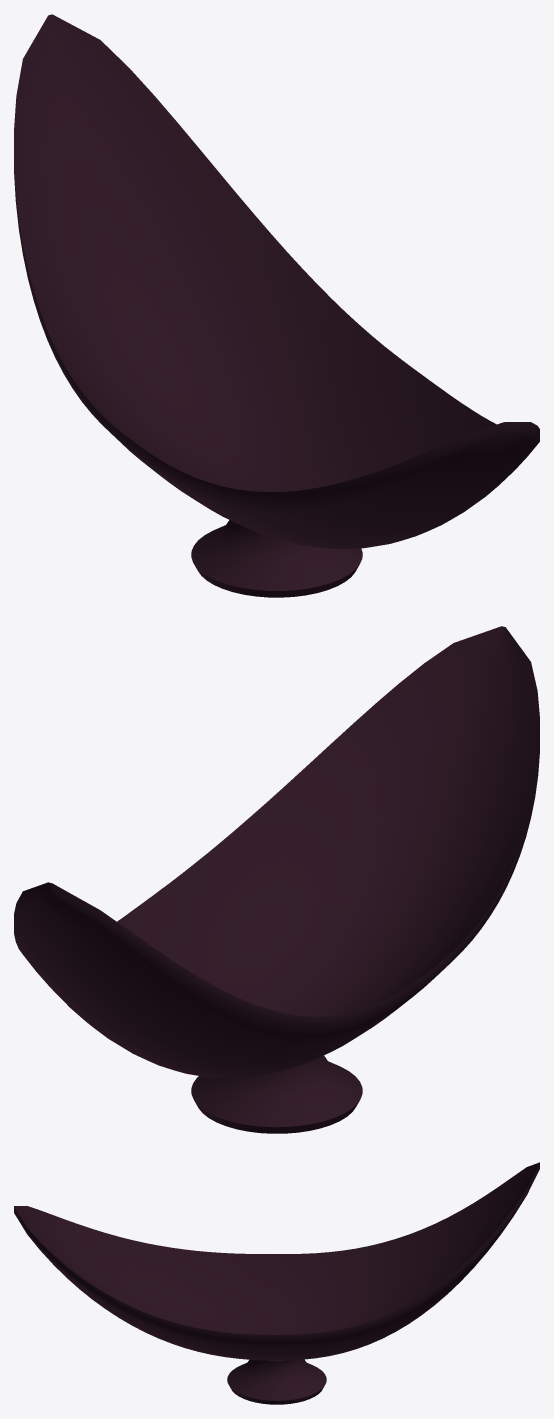
Rendered from recNipbeGY6ioNnac.glb.
3 renders of one model, top to bottom at view 1: azimuth 30°, elevation 25°; view 2: azimuth 150°, elevation 25°; view 3: azimuth 270°, elevation 25°, orthographic. The views are drawn at different scales.
Parts seen in each view (by area): view 1: Coupe_Buffet_Corps; view 2: Coupe_Buffet_Corps; view 3: Coupe_Buffet_Corps.
Part boxes in pixels (box(x1,y1,x2,y2)): Coupe_Buffet_Corps: box(14, 14, 539, 597); Coupe_Buffet_Corps: box(14, 626, 539, 1133); Coupe_Buffet_Corps: box(14, 1162, 539, 1404).
Size of the model in its own units: 0.138 by 0.177 by 0.38.
